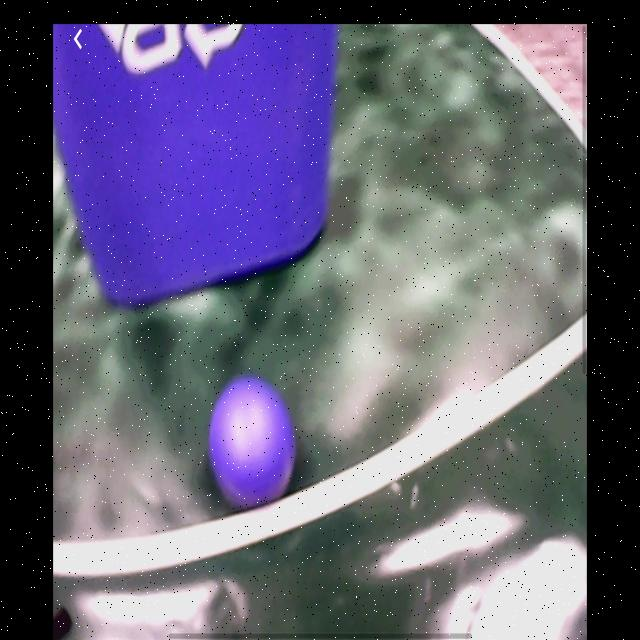ball: (211, 379, 299, 507)
